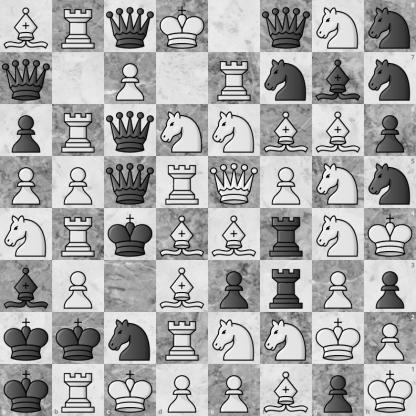B: (260, 364, 312, 416), (1, 1, 52, 52), (157, 209, 208, 260), (157, 261, 208, 312), (209, 209, 260, 260), (261, 105, 312, 156), (313, 105, 364, 156)
K: (104, 364, 156, 416), (364, 364, 416, 416), (364, 209, 416, 260), (157, 1, 208, 52), (313, 313, 364, 364)
N: (1, 209, 52, 260), (157, 105, 208, 156), (209, 105, 260, 156), (209, 313, 260, 364), (261, 313, 312, 364), (313, 1, 364, 52), (313, 157, 364, 208), (313, 209, 364, 260)
P: (156, 364, 209, 416), (364, 312, 416, 364), (209, 364, 260, 416), (1, 157, 52, 208), (53, 157, 104, 208), (53, 261, 104, 312), (105, 53, 156, 104), (261, 157, 312, 208), (313, 261, 364, 312)
Q: (209, 157, 260, 208)
R: (52, 364, 104, 416), (53, 1, 104, 52), (53, 105, 104, 156), (53, 209, 104, 260), (157, 157, 208, 208), (157, 313, 208, 364), (209, 53, 260, 104)
b: (1, 261, 52, 312), (313, 53, 364, 104)
board: (0, 0, 415, 415)
k: (0, 364, 52, 416), (1, 313, 52, 364), (53, 313, 104, 364), (105, 209, 156, 260)
n: (364, 156, 416, 209), (364, 0, 416, 52), (364, 52, 416, 104), (105, 313, 156, 364), (261, 53, 312, 104)
p: (312, 364, 364, 416), (364, 104, 416, 156), (364, 260, 416, 312), (1, 105, 52, 156), (209, 261, 260, 312)
q: (1, 53, 52, 104), (105, 1, 156, 52), (105, 105, 156, 156), (105, 157, 156, 208), (261, 1, 312, 52)
r: (261, 209, 312, 260), (261, 261, 312, 312)
